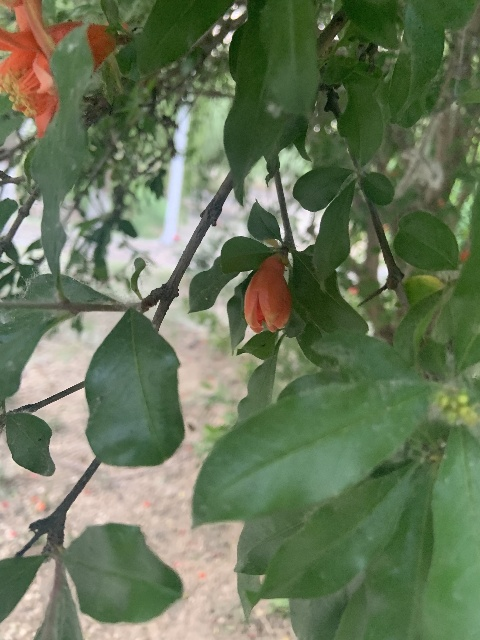flower: (0, 0, 116, 137), (243, 253, 292, 334)
